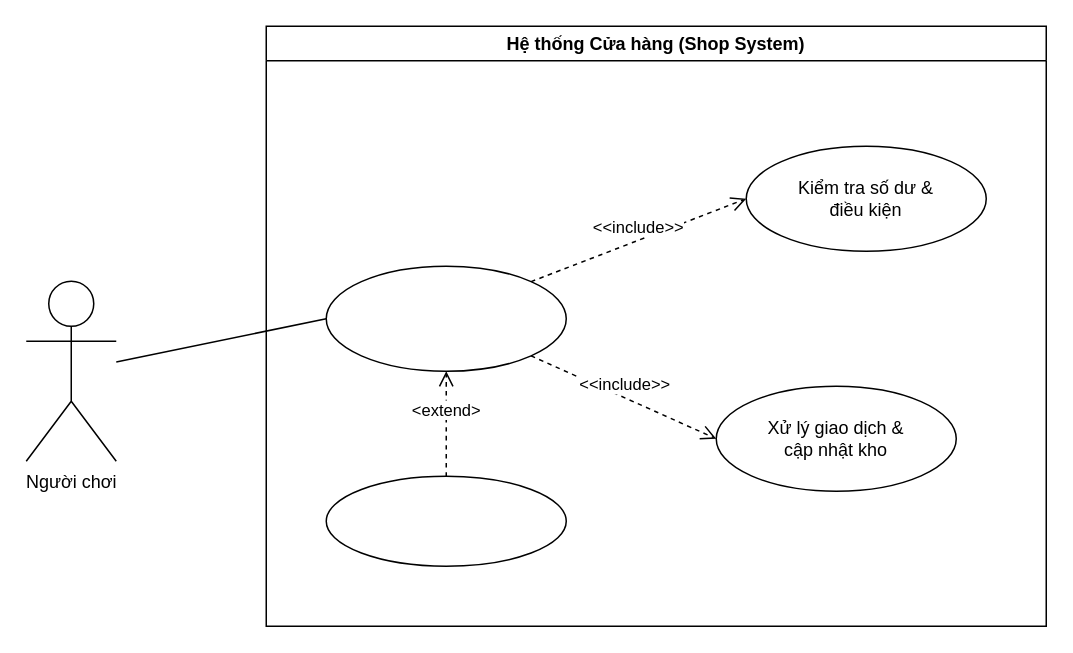
Image size: 1073x653. Some labels were removed from this diagram. Here are the shapes that lost their labels. From the top down, the box of each, then its label:
(325, 265, 566, 371): Mua sắm thẻ bài
(325, 475, 566, 566): Hiển thị thông báo/lỗi
